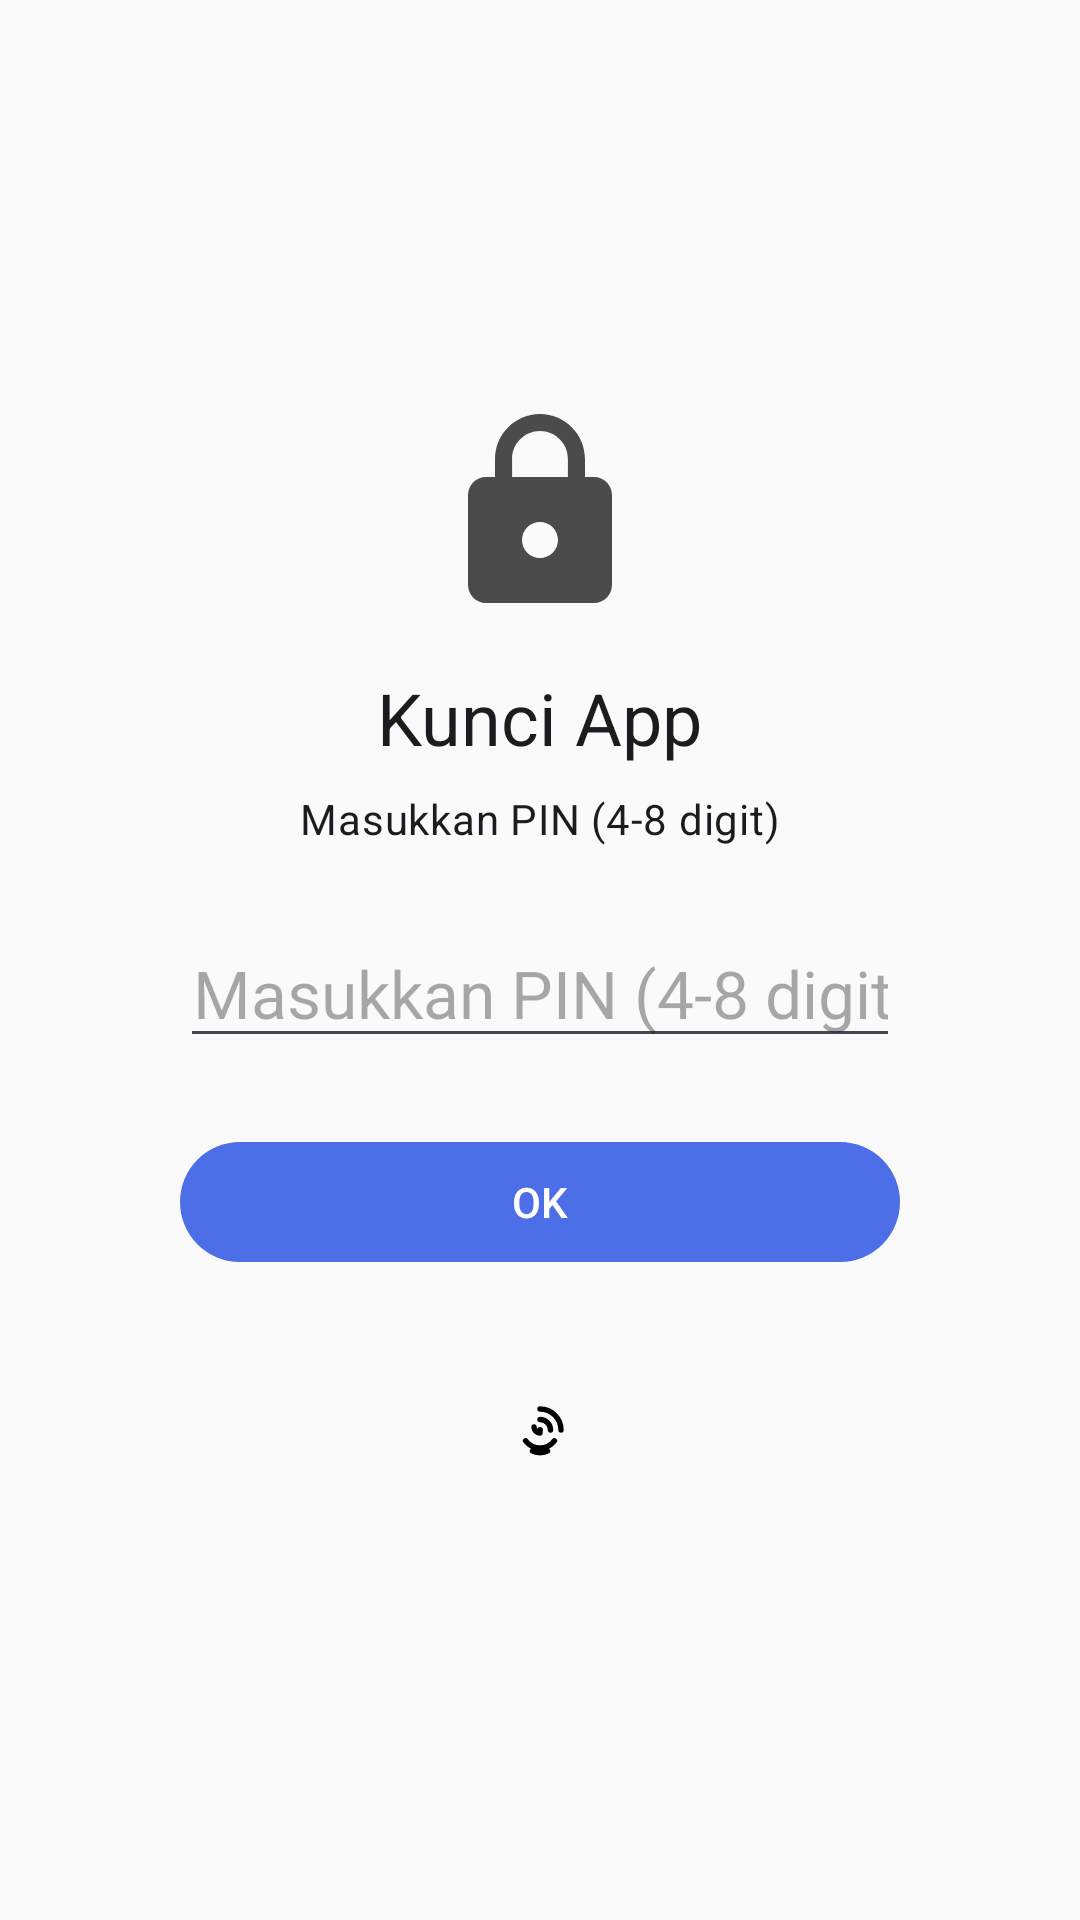

Where to tap for icons on this 1080 × 1920 app screen, as (x,y):
lock: (540,508)
